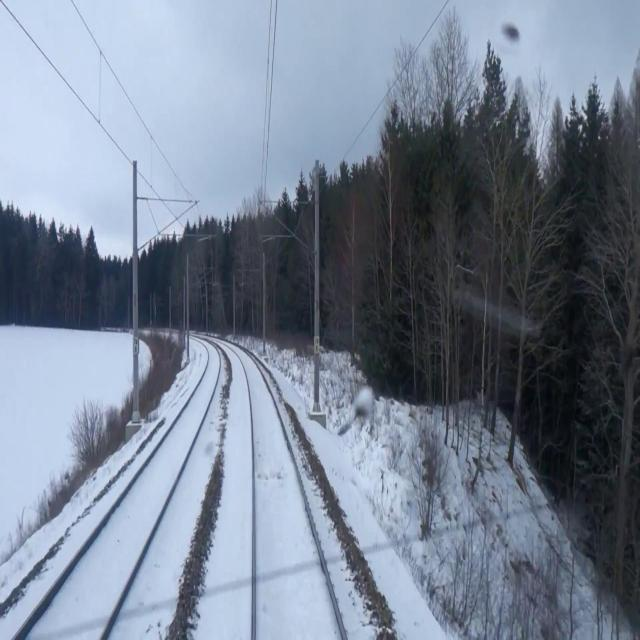rail-track: (16, 344, 218, 639), (235, 348, 343, 639)
